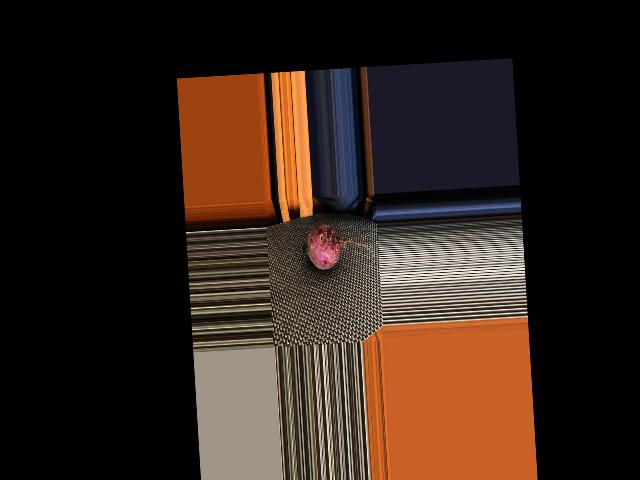beet: (300, 220, 373, 270)
